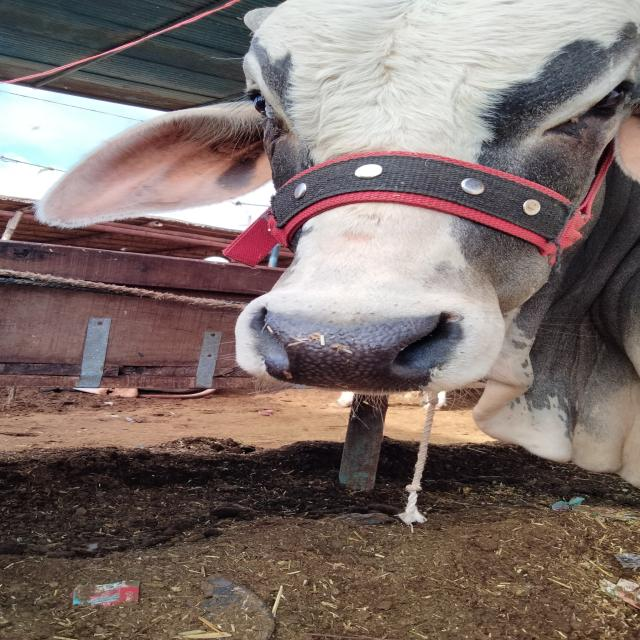muzzles: (238, 292, 467, 392)
